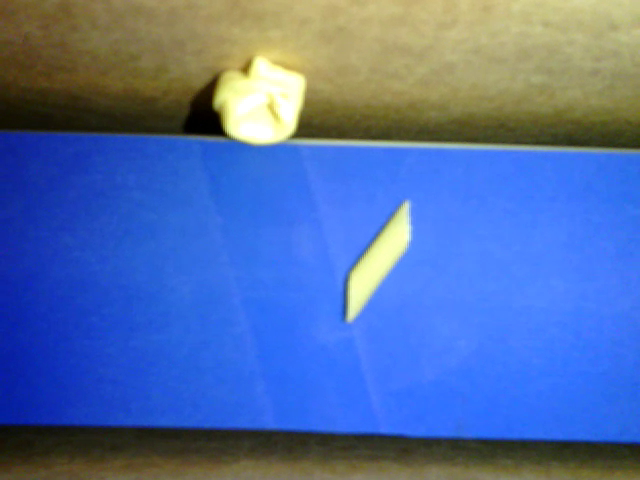penne: (346, 199, 411, 323)
tortellini: (213, 56, 305, 145)
